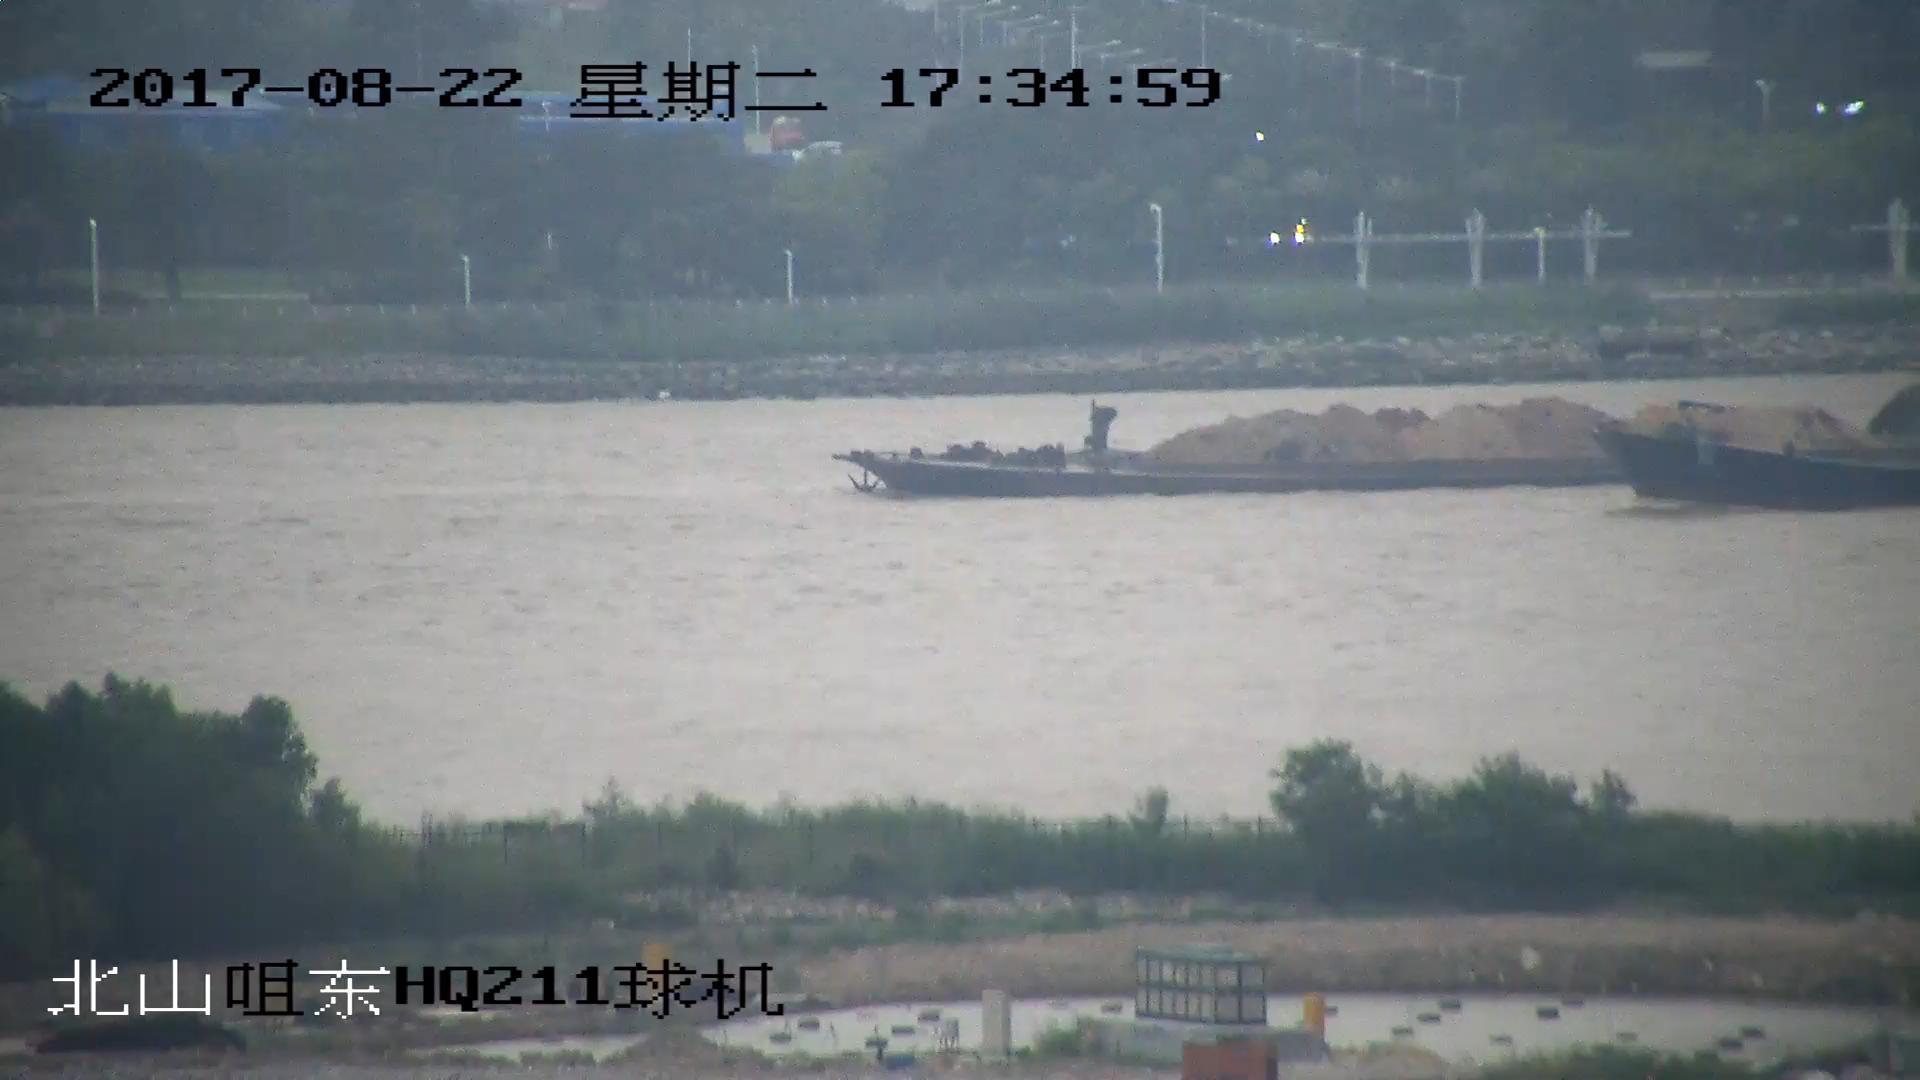Ship: (841, 392, 1920, 495), (1596, 417, 1920, 512)
